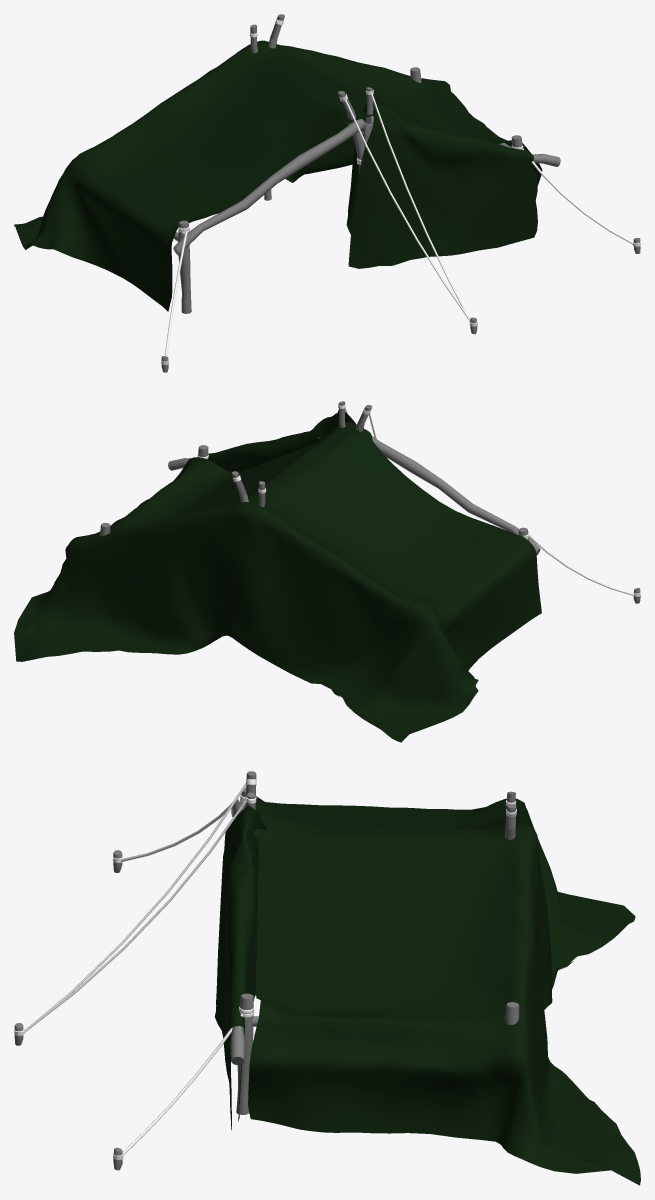
Rendered from Tente_01.fbx.
3 renders of one model, top to bottom at view 1: azimuth 30°, elevation 25°; view 2: azimuth 150°, elevation 25°; view 3: azimuth 270°, elevation 25°, orthographic. The views are drawn at different scales.
Visible parts, largest first — view 1: Tente; view 2: Tente; view 3: Tente.
Boxes of the visible parts, x1,y1,x2,y2 form: Tente: (14,14,640,372); Tente: (14,401,640,742); Tente: (14,771,640,1185).
Size of the model in its own units: 862 by 360 by 748.
